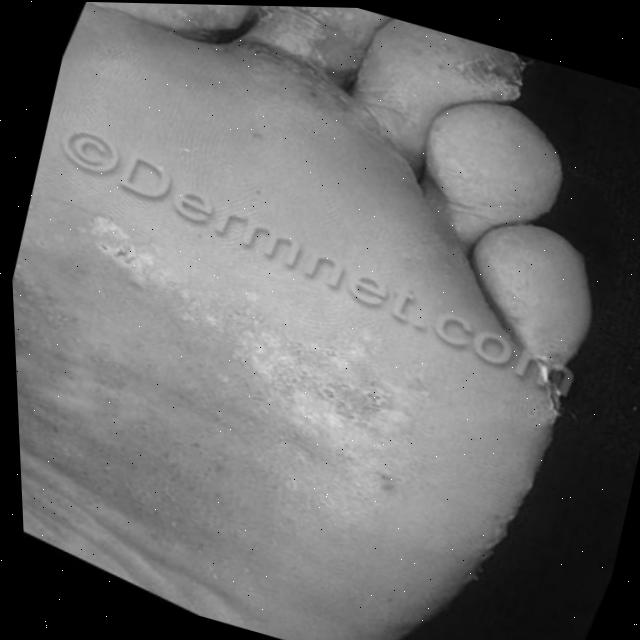Eczema: (6, 135, 574, 592), (158, 4, 501, 152)
